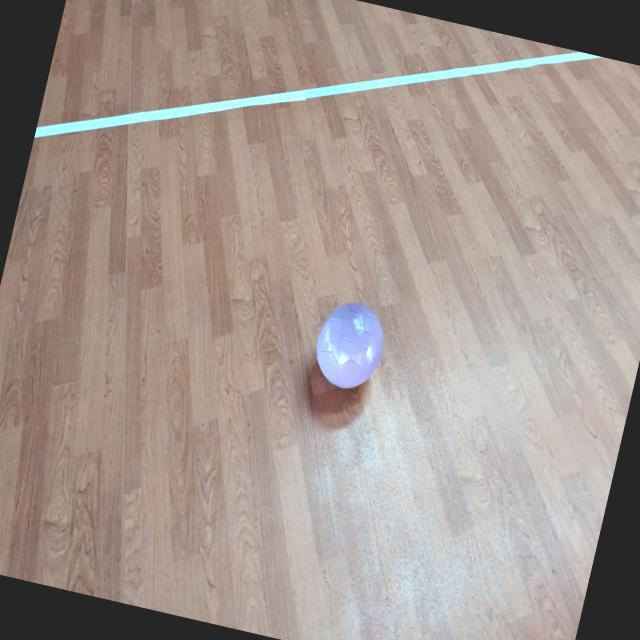purple_ball: (310, 295, 392, 396)
